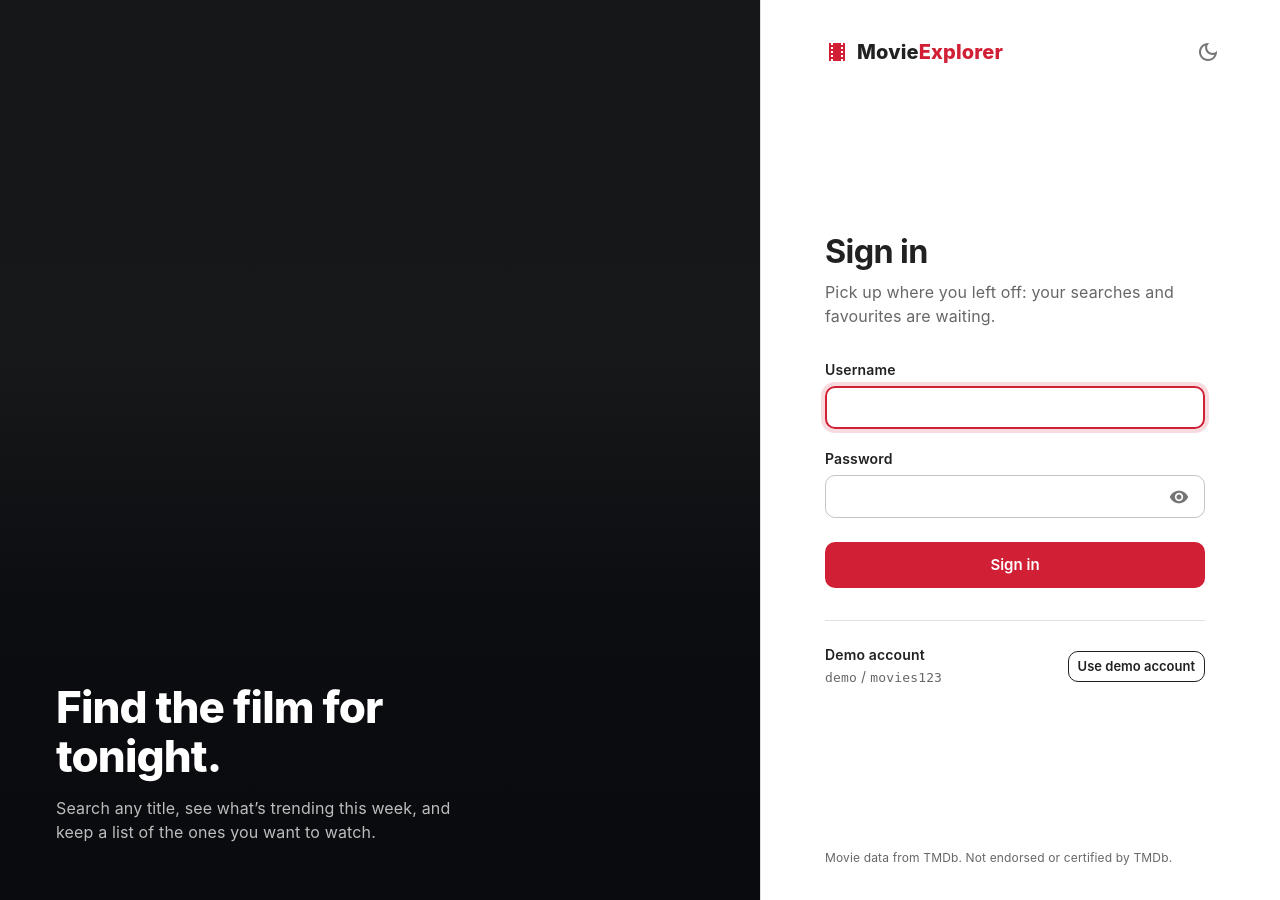
Test: LoginPage › shows field errors when submitted empty
Click the button "Sign in": (1015, 565) [825,542,1205,588]
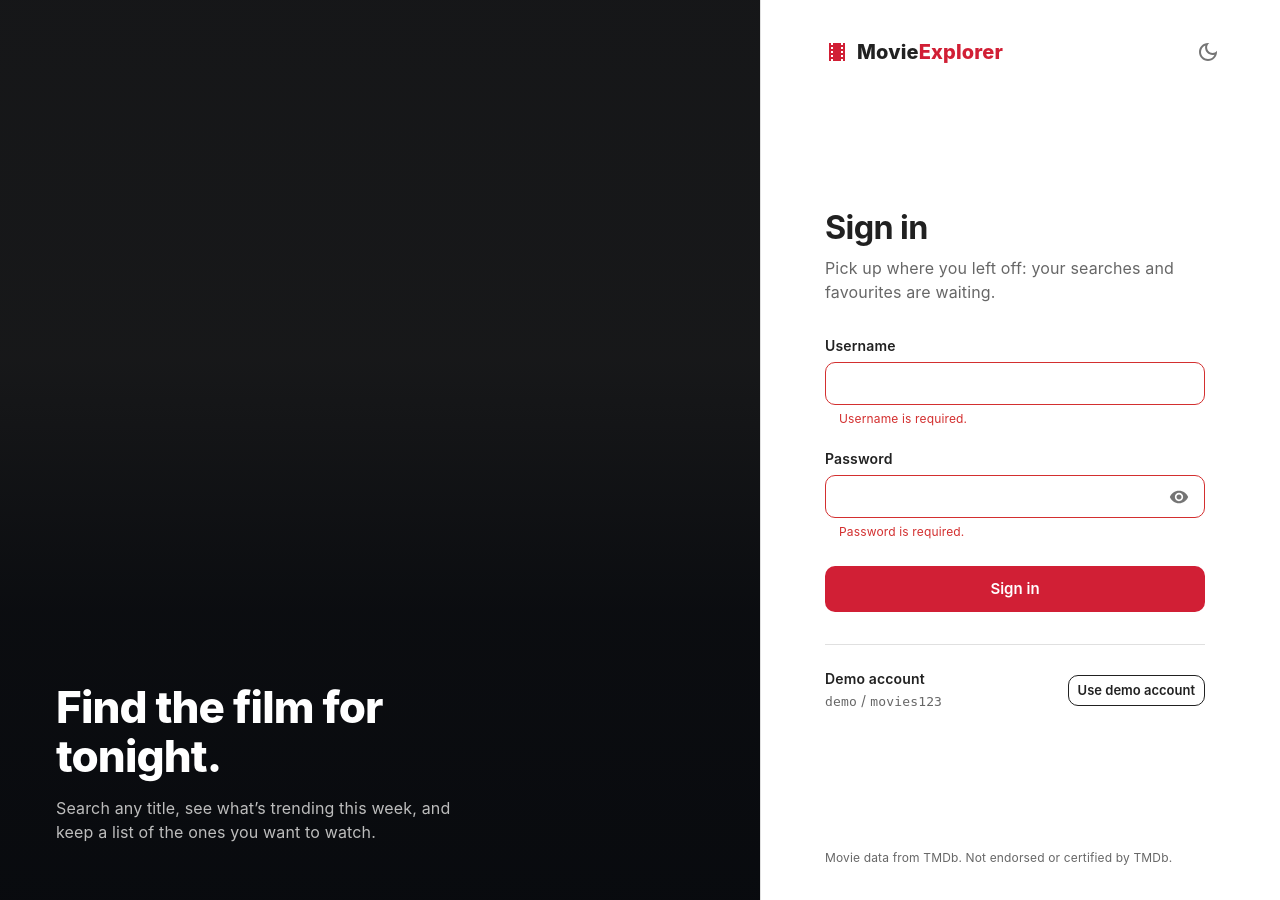
Now the text "Username is required." is shown, box [839,411,967,426]
Now the text "Password is required." is shown, box [839,524,964,539]
